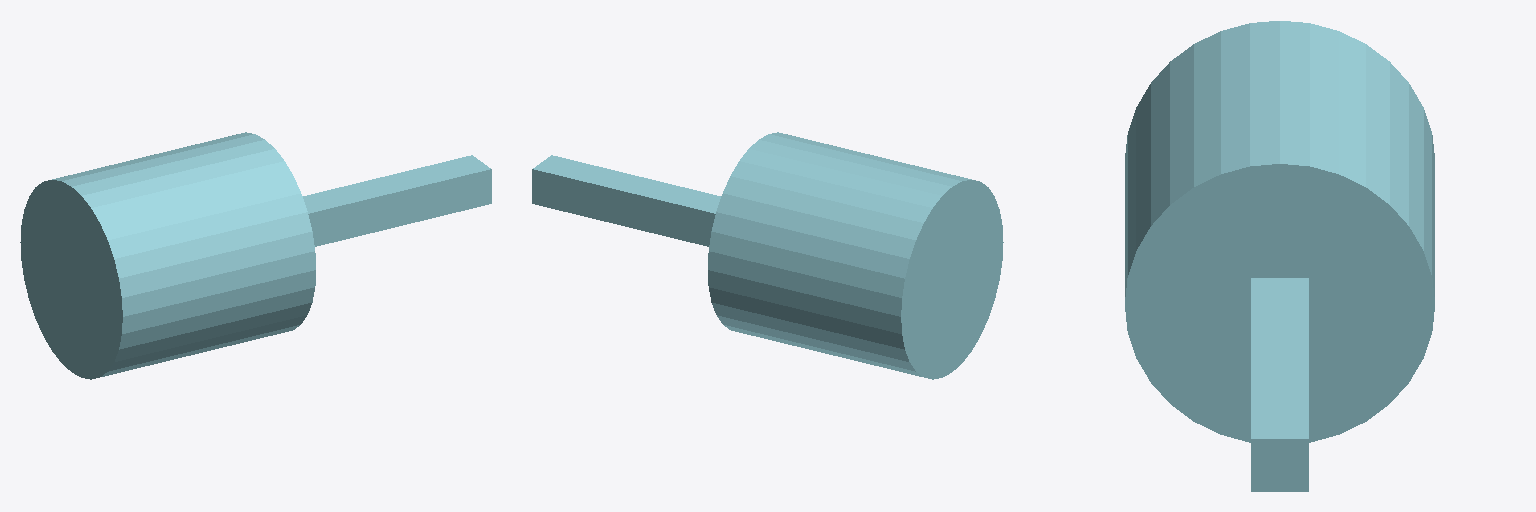
The robot description file, URDF, robot "cylinder_screwdriver_v3012":
<?xml version="1.0"?>
<robot name="cylinder_screwdriver_v3012">

  <link name="cylinder_screwdriver_v3012">
    <!-- Handle -->
    <visual>
      <origin xyz="0 0 0" rpy="0 1.5707963267948966 0"/>
      <geometry>
        <cylinder length="0.07475245987822007" radius="0.034242485500361824"/>
      </geometry>
      <material name="material">
        <color rgba="0.639 0.847 0.882 1.0"/>
      </material>
    </visual>
    <collision>
      <origin xyz="0 0 0" rpy="0 1.5707963267948966 0"/>
      <geometry>
        <cylinder length="0.07475245987822007" radius="0.034242485500361824"/>
      </geometry>
    </collision>

    <!-- Head -->
    <visual>
      <origin xyz="0.07922788210282158 0 0" rpy="0 0 0"/>
      <geometry>
        <box size="0.08370330432742311 0.01282475305736221 0.012862152570169249"/>
      </geometry>
      <material name="material">
        <color rgba="0.639 0.847 0.882 1.0"/>
      </material>
    </visual>
    <collision>
      <origin xyz="0.07922788210282158 0 0" rpy="0 0 0"/>
      <geometry>
        <box size="0.08370330432742311 0.01282475305736221 0.012862152570169249"/>
      </geometry>
    </collision>

    <inertial>
      <density value="400.0"/>
    </inertial>
  </link>

</robot>

--- Render facts (derived) ---
3 views of the same robot in one strip: view 1: azimuth 30°, elevation 25°; view 2: azimuth 150°, elevation 25°; view 3: azimuth 270°, elevation 25° (orthographic).
Model cylinder_screwdriver_v3012 with 1 links and 0 joints (none), rooted at cylinder_screwdriver_v3012, posed all joints at 0.
Visible links, largest first — view 1: cylinder_screwdriver_v3012; view 2: cylinder_screwdriver_v3012; view 3: cylinder_screwdriver_v3012.
Boxes of the visible links, x1,y1,x2,y2 form: cylinder_screwdriver_v3012: (20,132,491,379); cylinder_screwdriver_v3012: (532,132,1003,379); cylinder_screwdriver_v3012: (1125,21,1434,491).
Bounding box of the posed robot: 0.1585 × 0.0685 × 0.0685 m (x, y, z).
Geometry: primitives only (box / cylinder / sphere), no mesh files.
